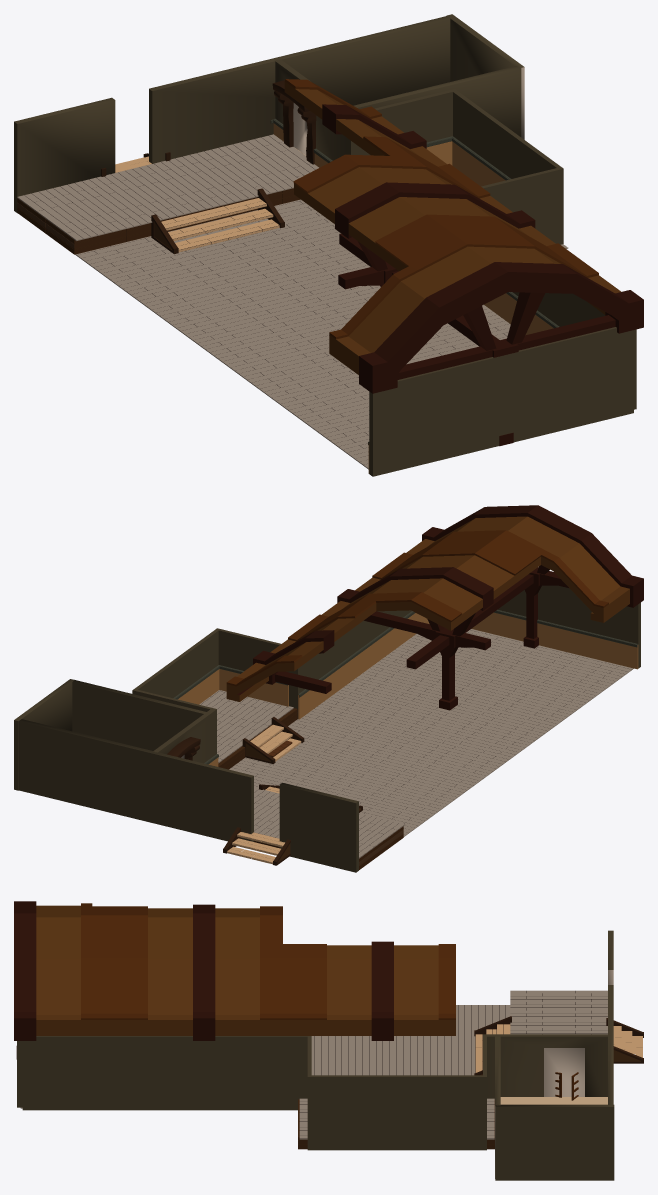
The model's file is Room1.fbx.
3 renders of one model, top to bottom at view 1: azimuth 30°, elevation 25°; view 2: azimuth 150°, elevation 25°; view 3: azimuth 270°, elevation 25°, orthographic. The views are drawn at different scales.
Parts seen in each view (by area): view 1: Room, Room_1, Room_2, Room_3, Room_4; view 2: Room, Room_1, Room_3, Room_2, Room_4, STAIR; view 3: Room, Room_4, STAIR, 立方体, Room_1, Room_3.
Boxes of the visible parts, x1=… form: Room: x1=17, y1=59, x2=643, y2=476; Room_1: x1=149, y1=16, x2=450, y2=163; Room_2: x1=14, y1=97, x2=115, y2=213; Room_3: x1=353, y1=66, x2=521, y2=136; Room_4: x1=446, y1=14, x2=524, y2=139; Room: x1=132, y1=505, x2=643, y2=869; Room_1: x1=19, y1=719, x2=253, y2=841; Room_3: x1=72, y1=679, x2=209, y2=750; Room_2: x1=279, y1=782, x2=358, y2=872; Room_4: x1=14, y1=679, x2=74, y2=790; STAIR: x1=223, y1=827, x2=290, y2=865; Room: x1=14, y1=901, x2=607, y2=1150; Room_4: x1=495, y1=1104, x2=614, y2=1180; STAIR: x1=606, y1=1018, x2=643, y2=1063; 立方体: x1=500, y1=1097, x2=607, y2=1104; Room_1: x1=608, y1=985, x2=613, y2=1104; Room_3: x1=495, y1=1034, x2=500, y2=1178.
Bounding box in the file's own units: 48.72 × 18.92 × 72.64.
